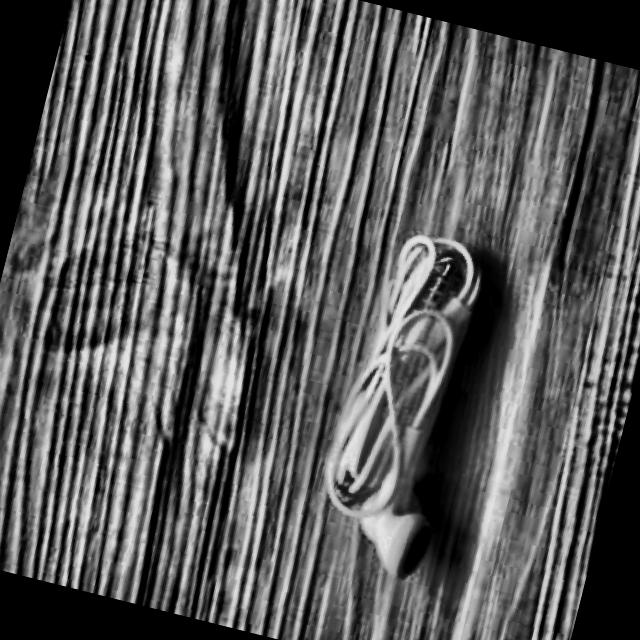Cable: (299, 223, 506, 584)
